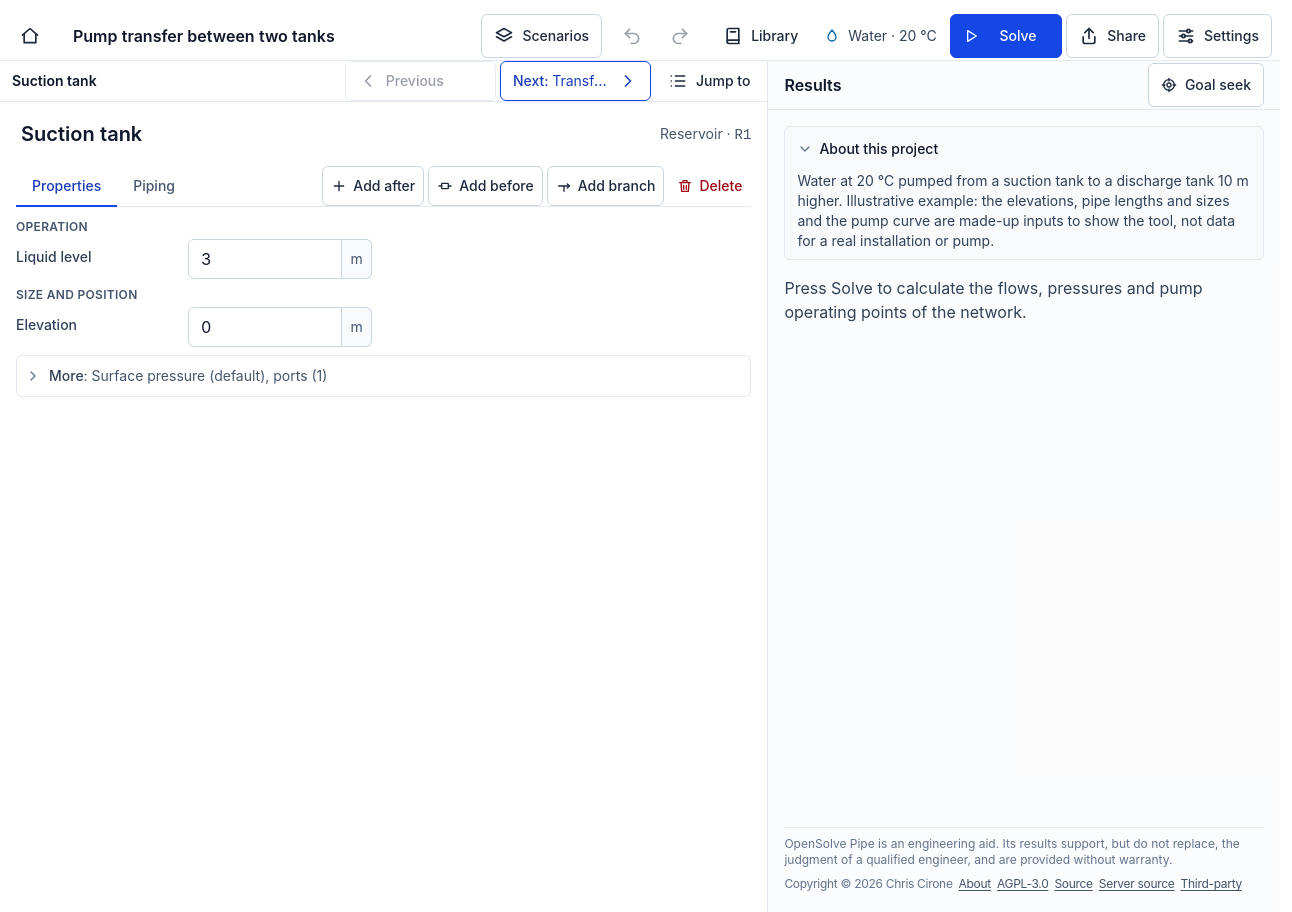
Scenario: notes and tables › shows a pipe’s flag on that pipe when a connection is expanded
Click the button "Solve": click(1006, 36) left=950, top=14, right=1062, bottom=58
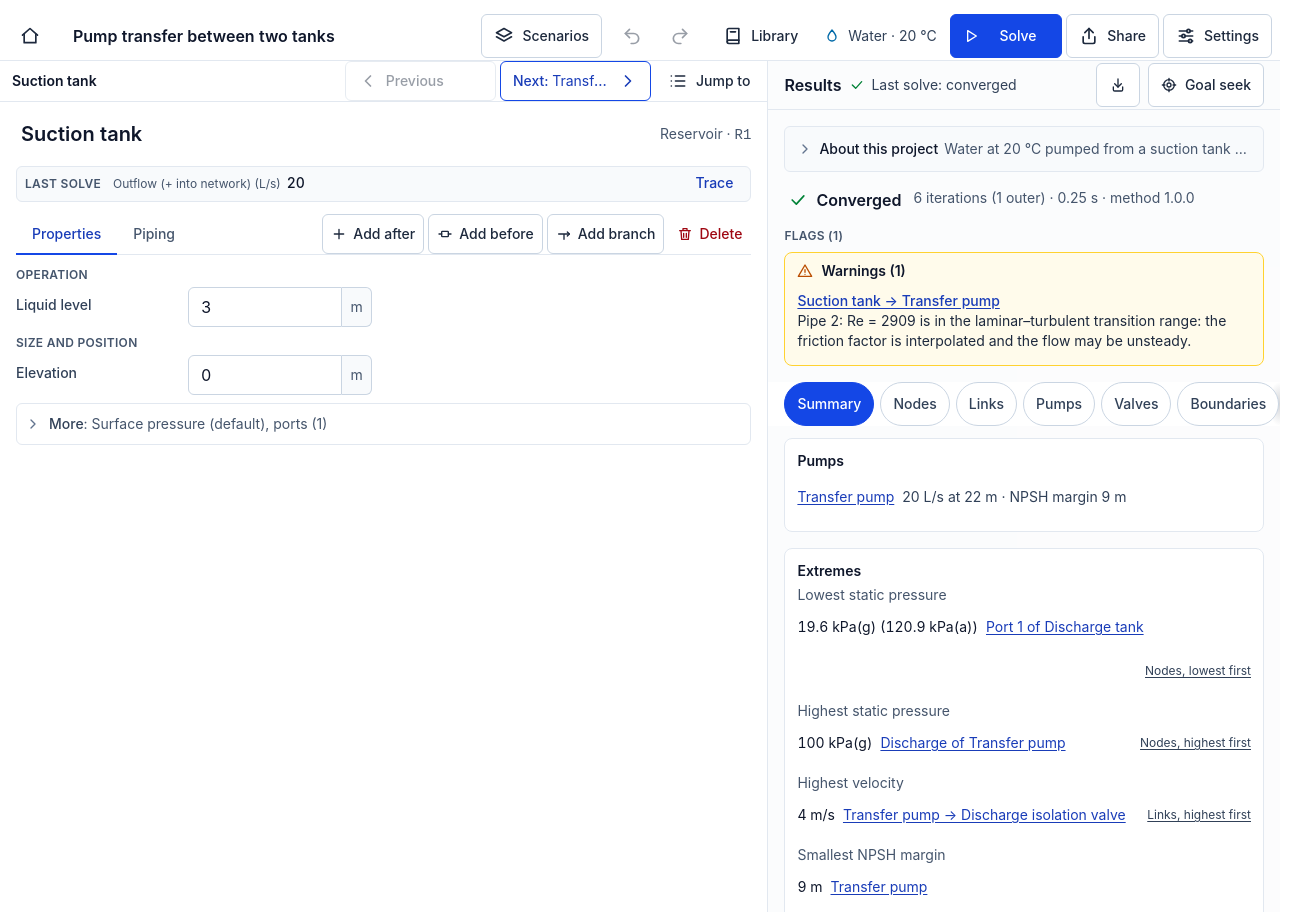
Click the tab "Links": click(986, 404) left=956, top=382, right=1017, bottom=426
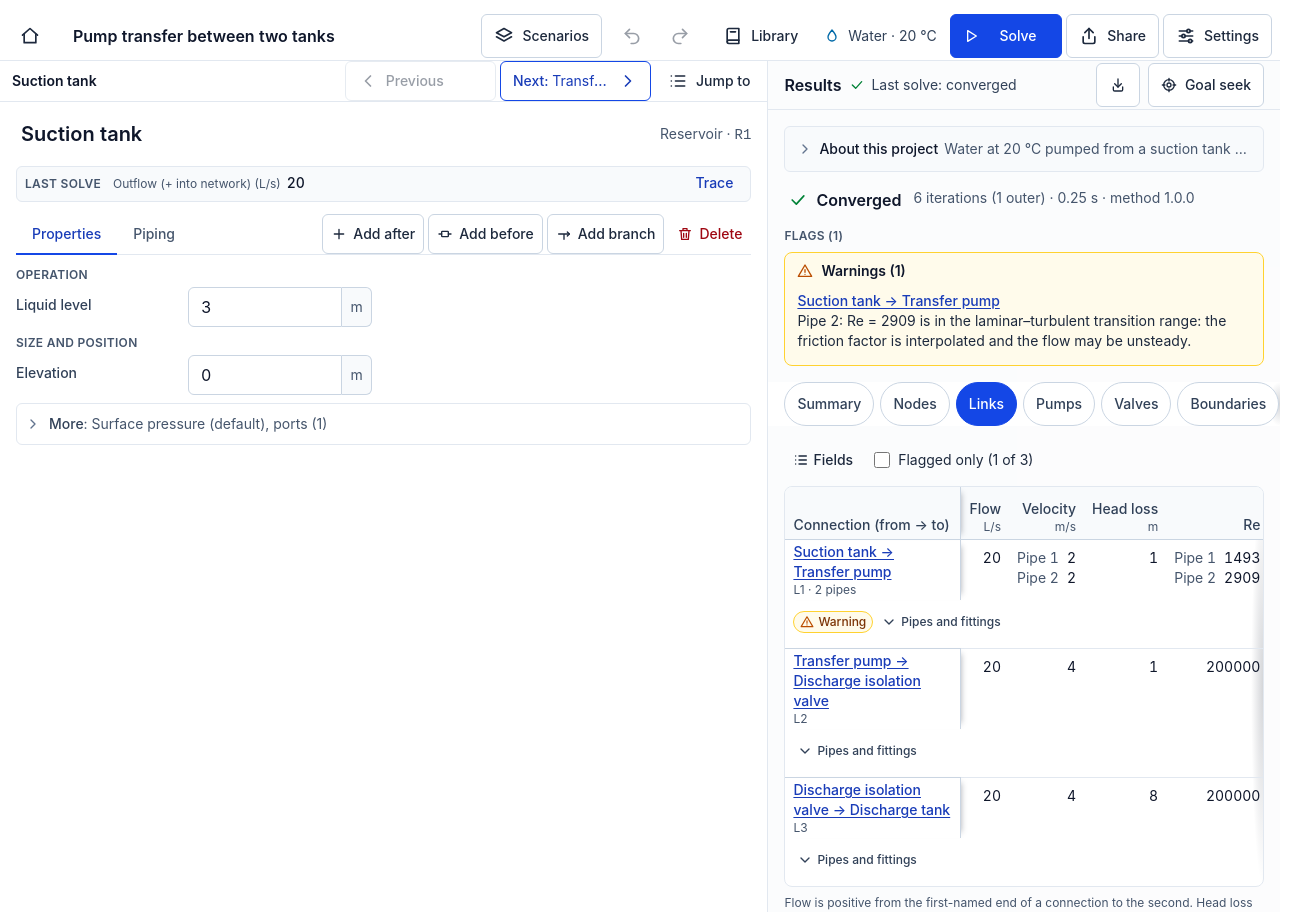
Click the button named "Pipes and fittings: Suction tank → Transfer pump": click(941, 622) left=877, top=600, right=1005, bottom=644
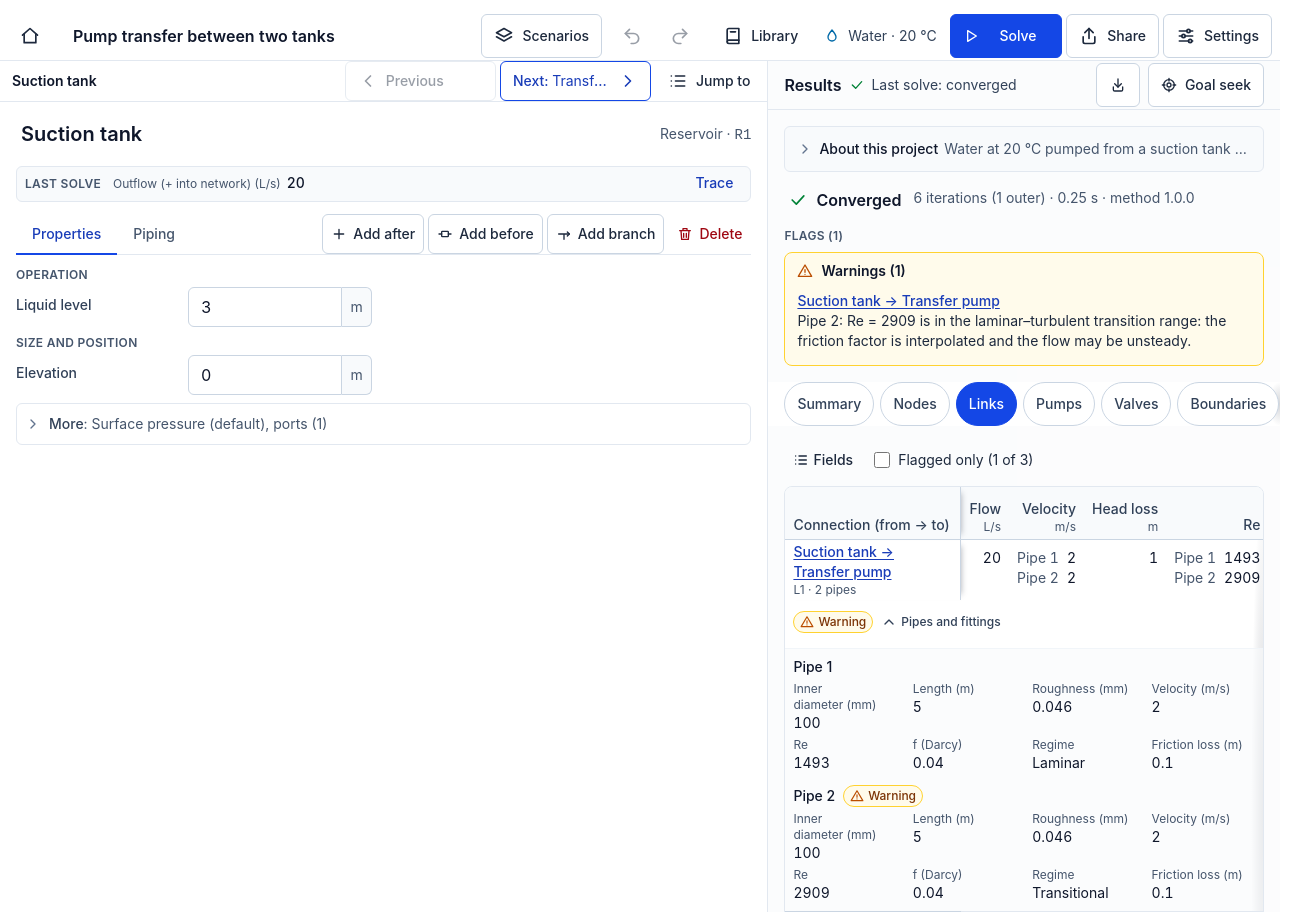
Check: the 2nd text "Warning" is shown, box left=843, top=785, right=923, bottom=807
